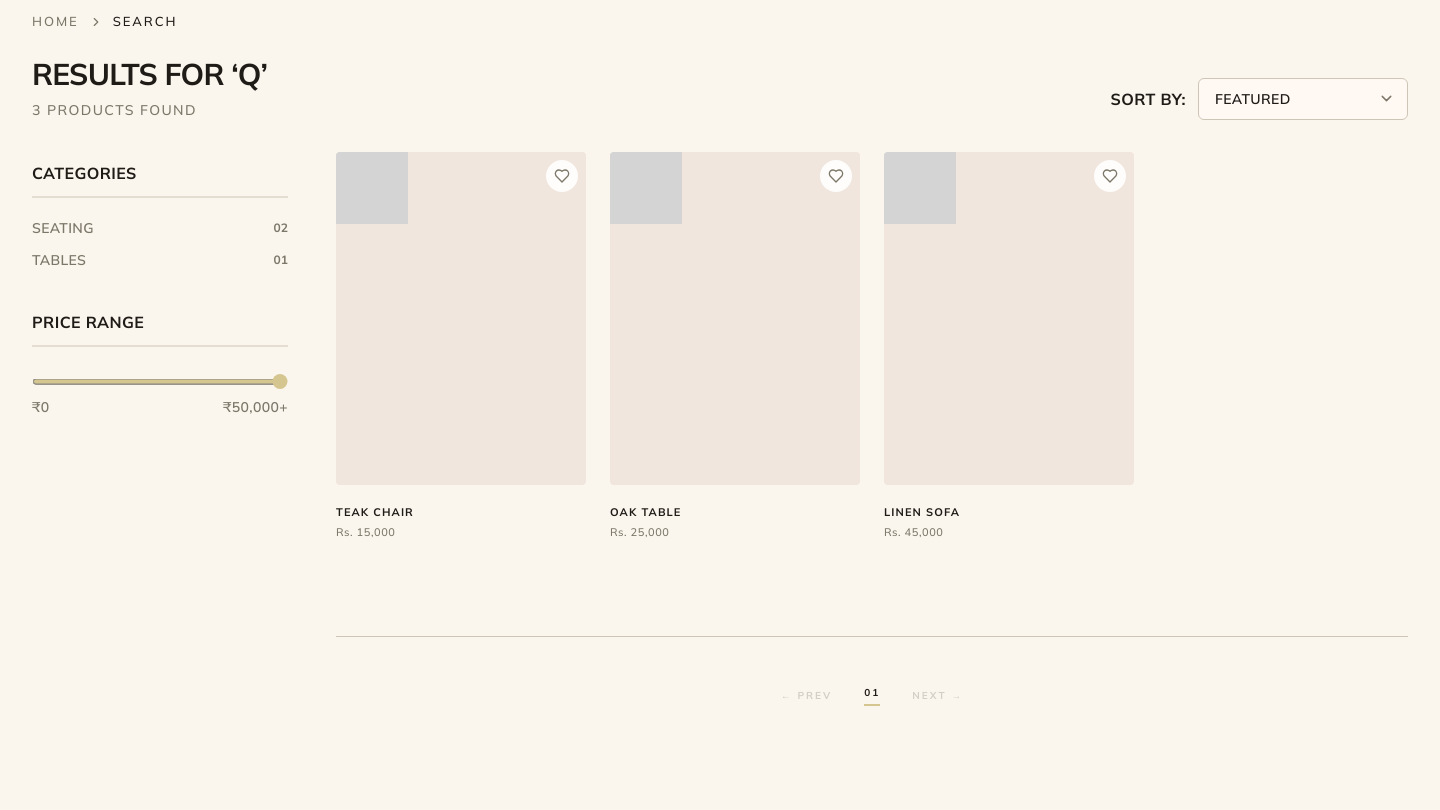
SearchResults › price range filter › filters out products above the set max price
The width and height of the screenshot is (1440, 810).
Set the slider with test id "filter-price-range" to "20000": (136, 381) [32, 378, 288, 384]
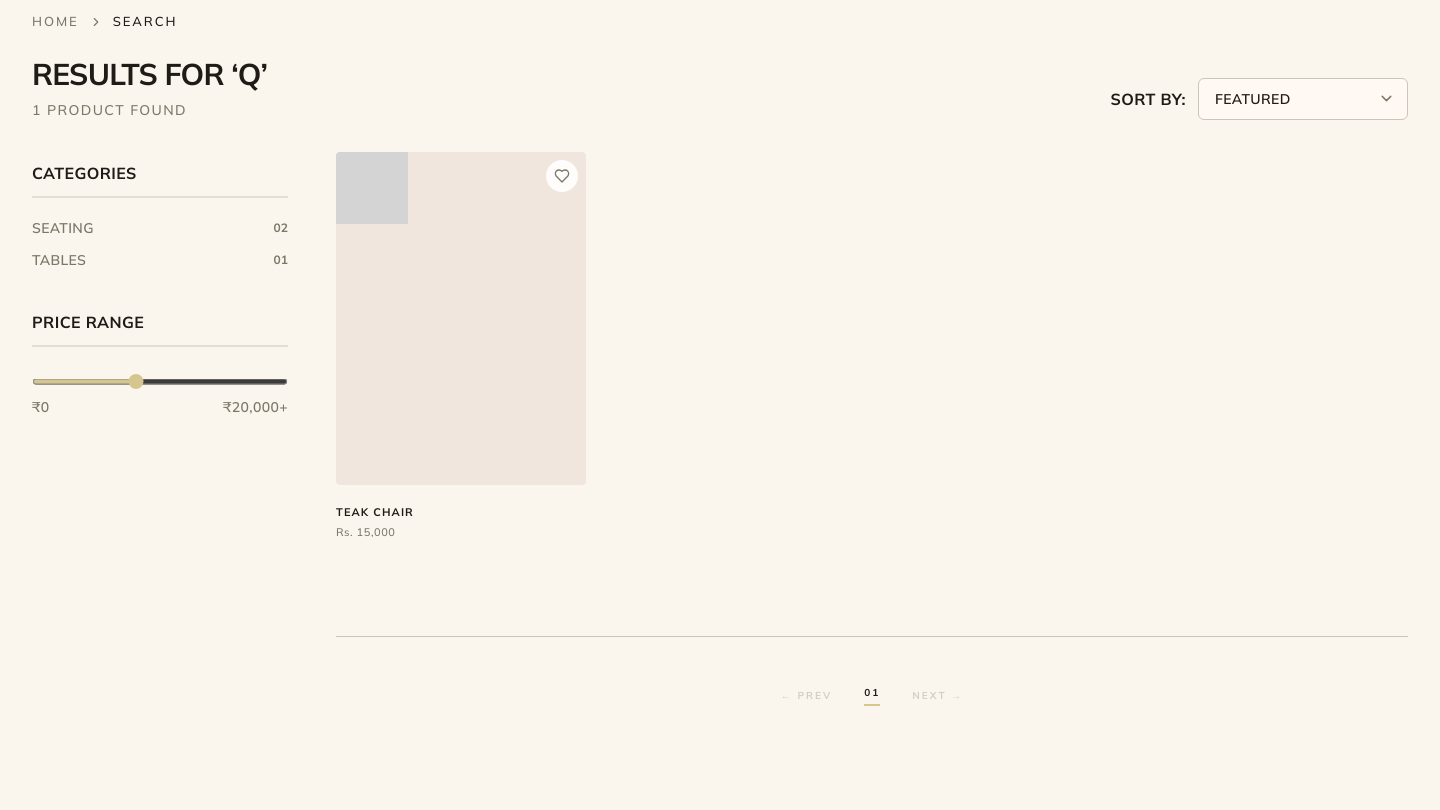
expect the link with test id "product-card-1" is shown: met, box [336, 152, 586, 540]
expect the link with test id "product-card-2" is gone: met
expect the link with test id "product-card-3" is gone: met
